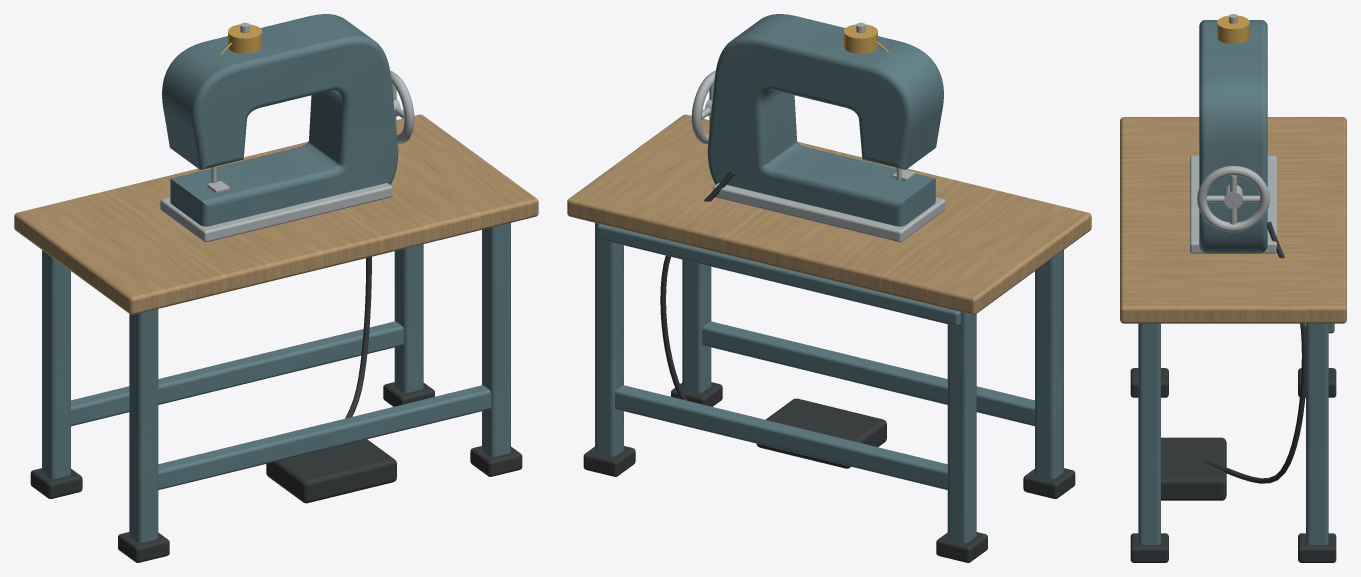
File: gorgehold-survivor-gallery-and-operations-fold-down-se-75409e2a__32860.glb
The picture shows the model from 3 angles, left to right: view 1: azimuth 30°, elevation 25°; view 2: azimuth 150°, elevation 25°; view 3: azimuth 270°, elevation 25°; orthographic projection. The views are drawn at different scales.
Parts seen in each view (by area): view 1: fold-down-sewing-repair-station; view 2: fold-down-sewing-repair-station; view 3: fold-down-sewing-repair-station.
Part boxes in pixels (left/top/right/bottom): fold-down-sewing-repair-station: left=14, top=14, right=538, bottom=562; fold-down-sewing-repair-station: left=567, top=14, right=1091, bottom=562; fold-down-sewing-repair-station: left=1120, top=14, right=1346, bottom=562.
Bounding box in the file's own units: 1.3 × 1.4 × 0.6501.
Materials: 5 (3 with a texture image).
